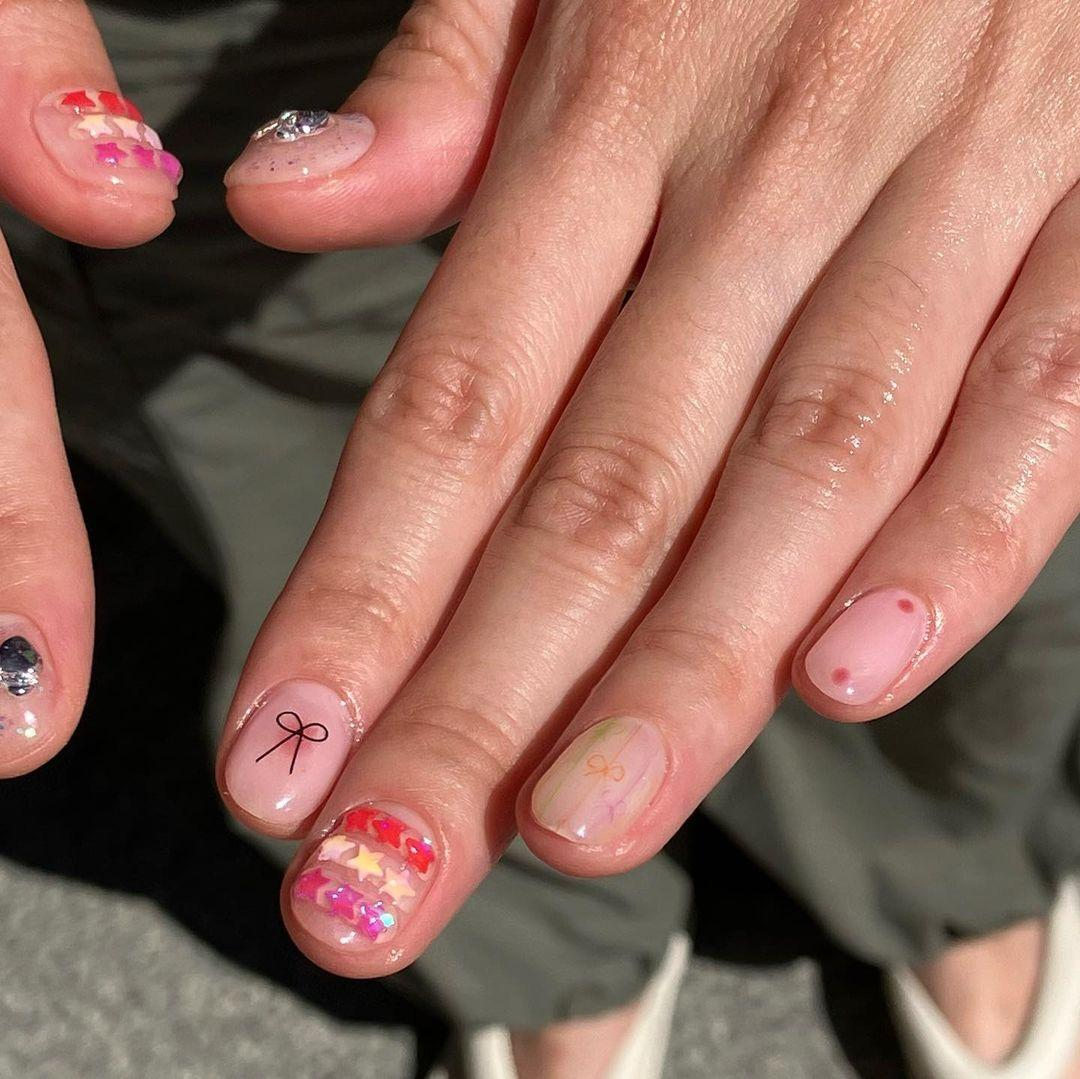nail: (280, 798, 444, 973), (215, 674, 359, 838), (526, 711, 670, 850), (797, 583, 934, 715), (31, 85, 183, 194), (221, 106, 376, 188), (0, 612, 55, 764)
